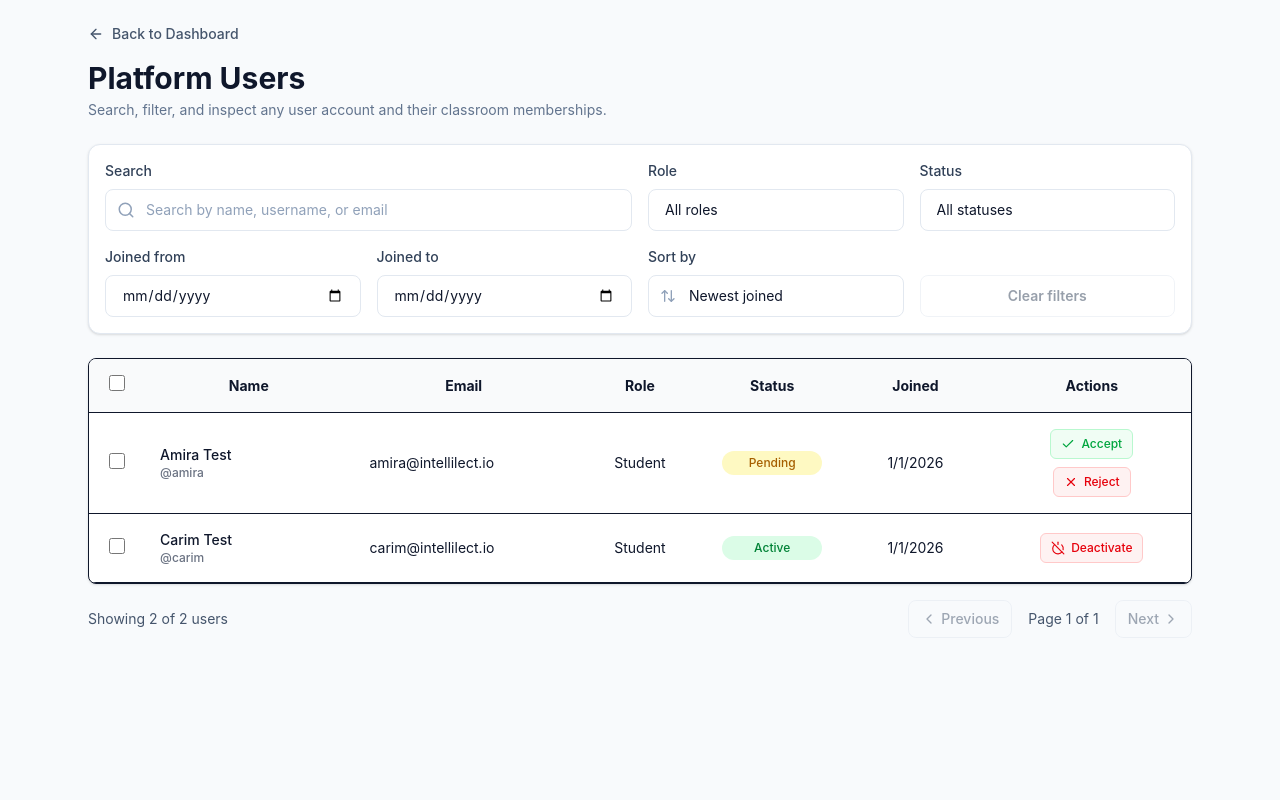
UsersDirectoryPage bulk status changes › keeps the untouched accounts selected after acting on part of a mixed selection
Expected: the text "Amira Test" is shown, [160, 446, 232, 463]
Click the checkbox named "Select every changeable account" at coordinates (116, 383), box [108, 375, 124, 391]
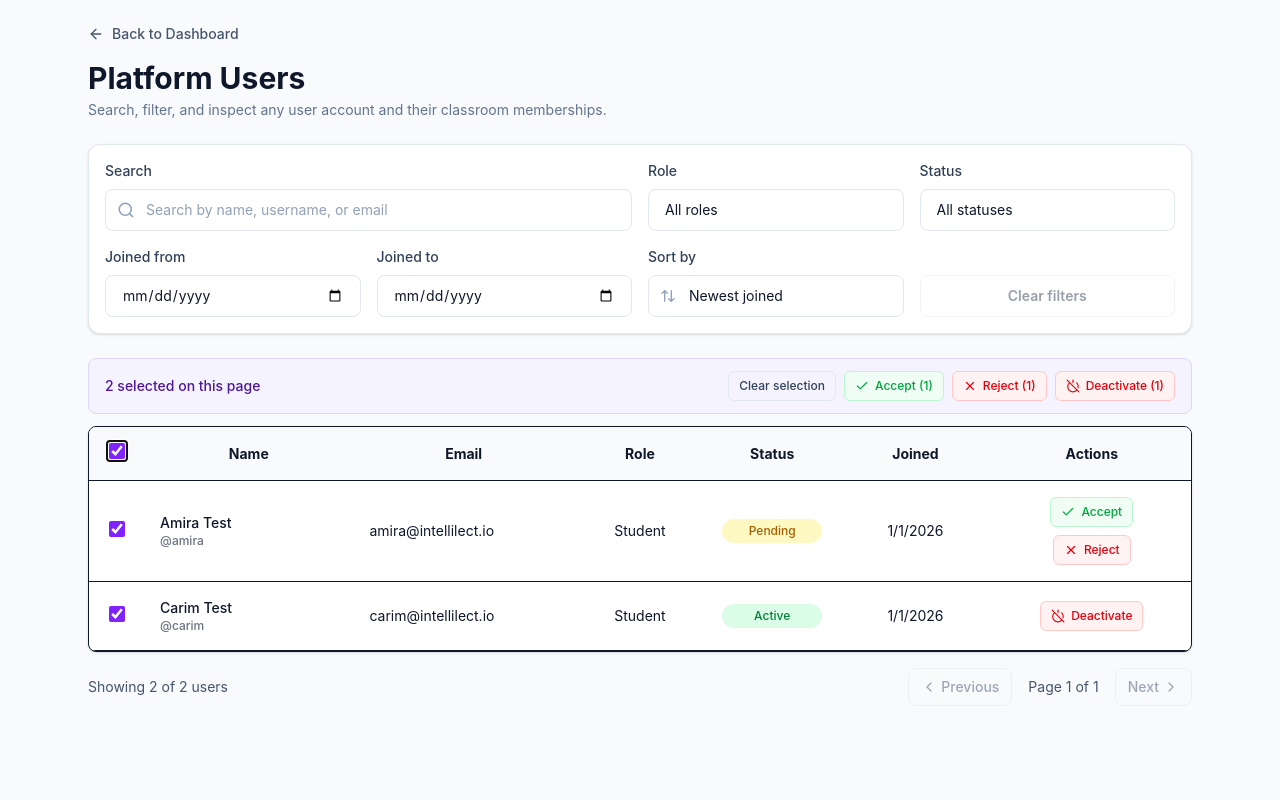
Click the button "Accept (1)" at coordinates (894, 386), box [844, 371, 944, 401]
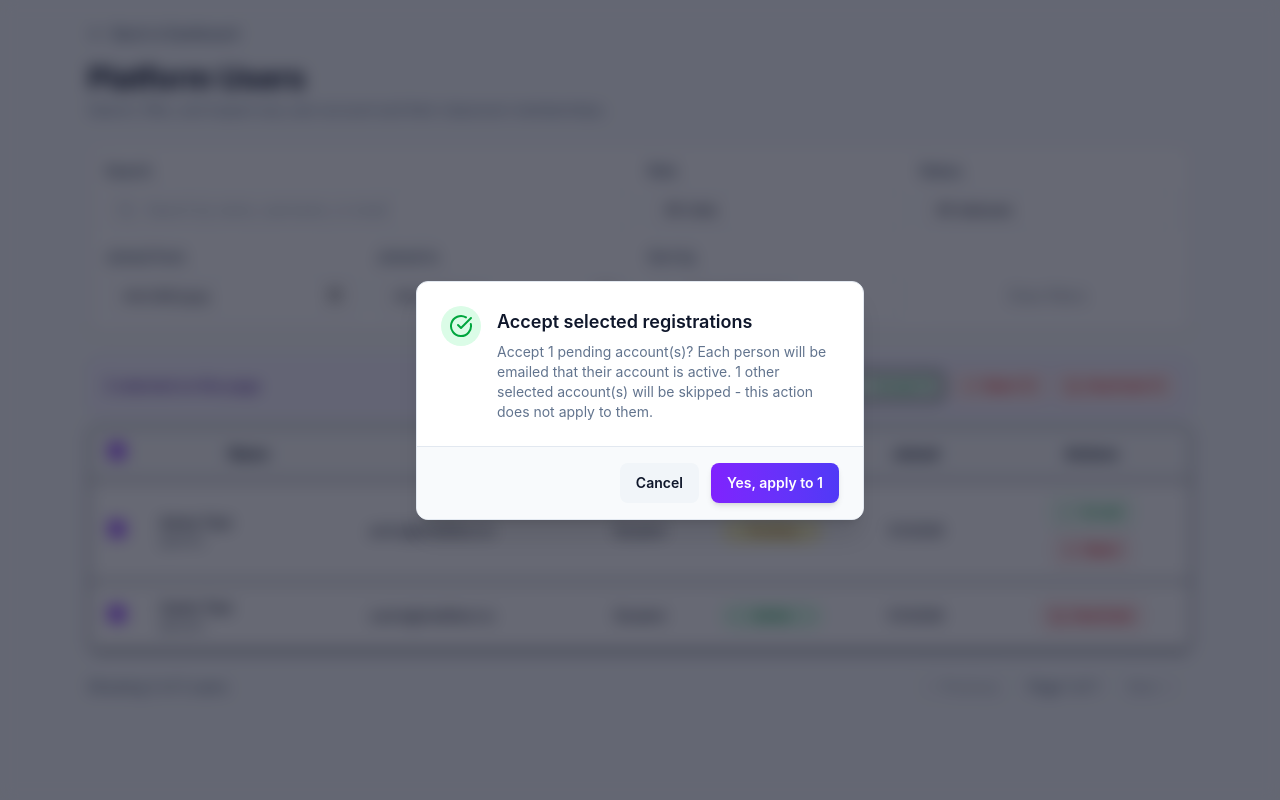
Click the button "Yes, apply to 1" at coordinates (775, 482), box [711, 462, 839, 502]
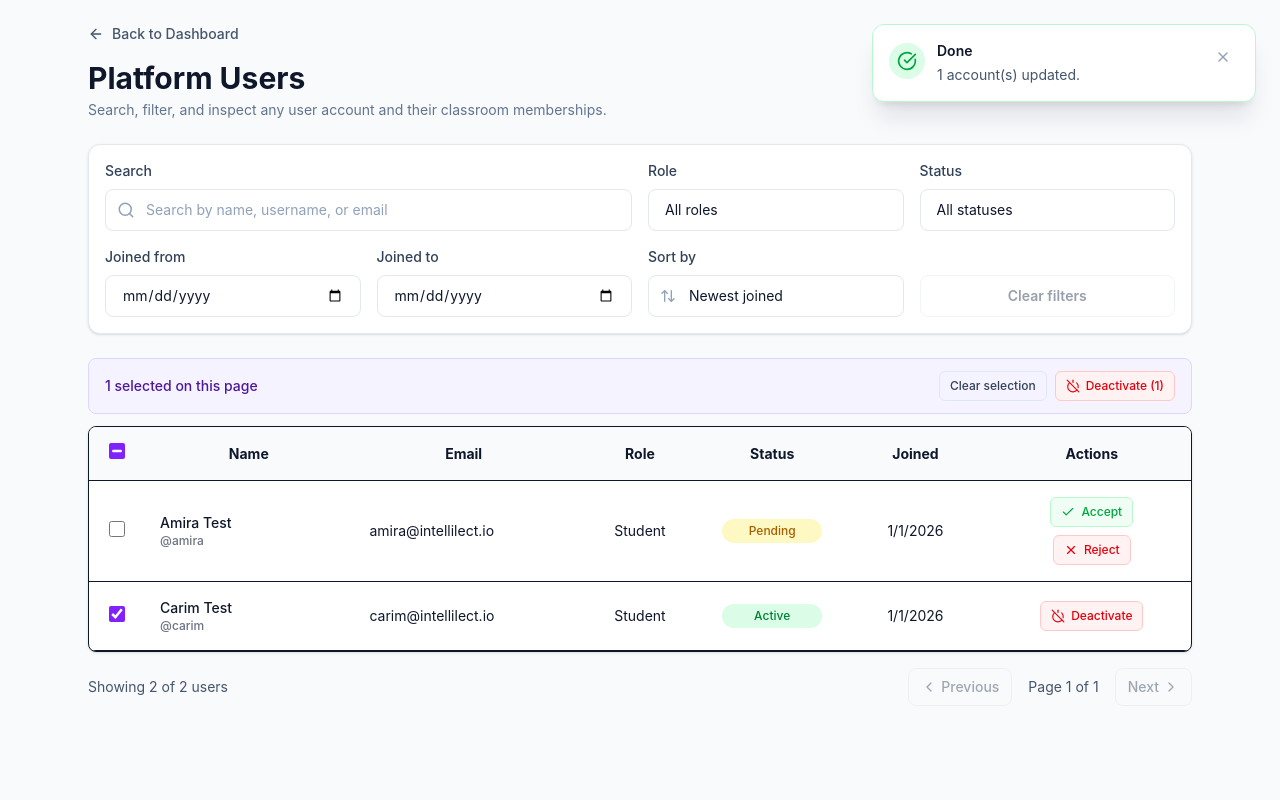
Now the checkbox named "Select Carim Test" is checked, box [108, 606, 124, 622]
Now the text "1 selected on this page" is shown, box [105, 376, 258, 396]
